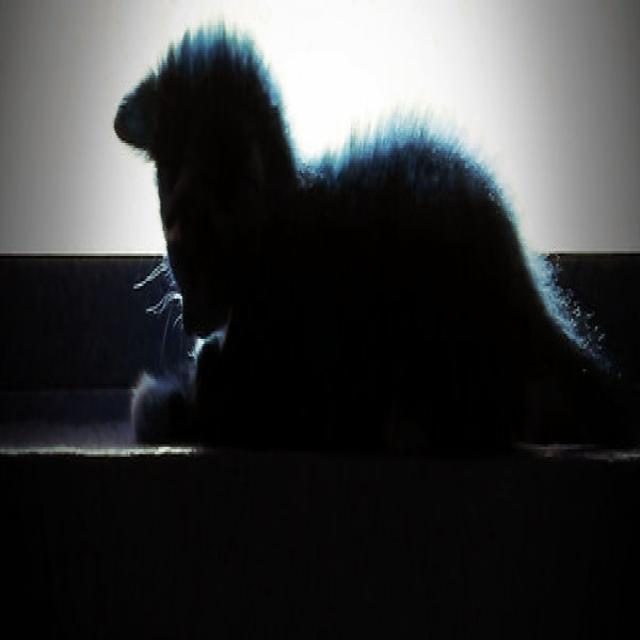Cat: (116, 27, 640, 494)
